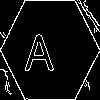A: (25, 25, 55, 71)
